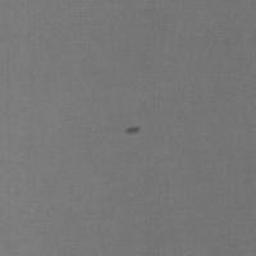Inclusion: (125, 125, 140, 136)
